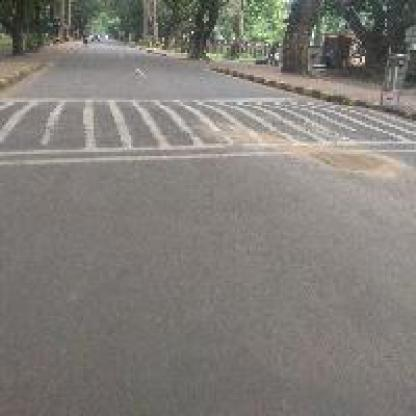Speed Bump: (0, 94, 414, 166)
